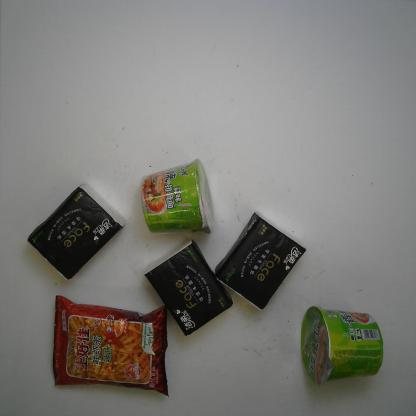Instant Noodles: (300, 305, 382, 386), (138, 156, 215, 236)
Puffed Food: (49, 295, 172, 400)
Tissue: (26, 184, 126, 281), (214, 212, 308, 312), (142, 240, 232, 336)
